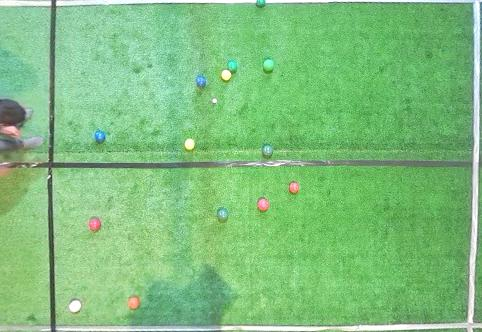blue: (196, 76, 206, 87), (95, 131, 105, 142)
green: (263, 59, 274, 72), (217, 208, 228, 221), (262, 145, 273, 156), (228, 61, 237, 72), (255, 1, 266, 7)
red: (128, 296, 140, 310), (89, 218, 101, 232), (69, 300, 81, 313), (258, 198, 269, 211), (289, 182, 299, 194)
vline: (1, 1, 58, 331), (465, 1, 481, 331)
white: (212, 98, 217, 103)
yellow: (184, 138, 195, 150), (221, 70, 231, 81)
